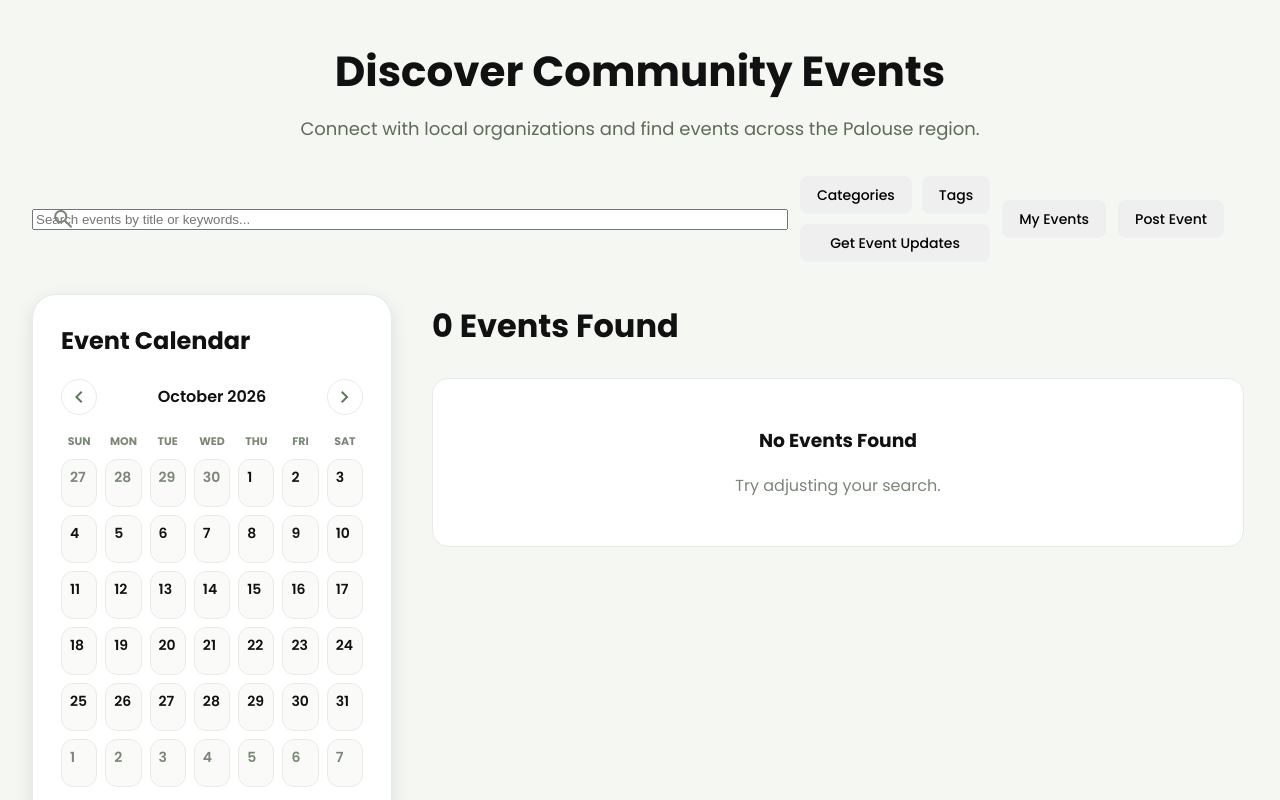
Test: Events › opens the post event popup from the events page
The image size is (1280, 800).
Click the button "Post Event" at point(1171, 219), box [1118,200,1224,238]
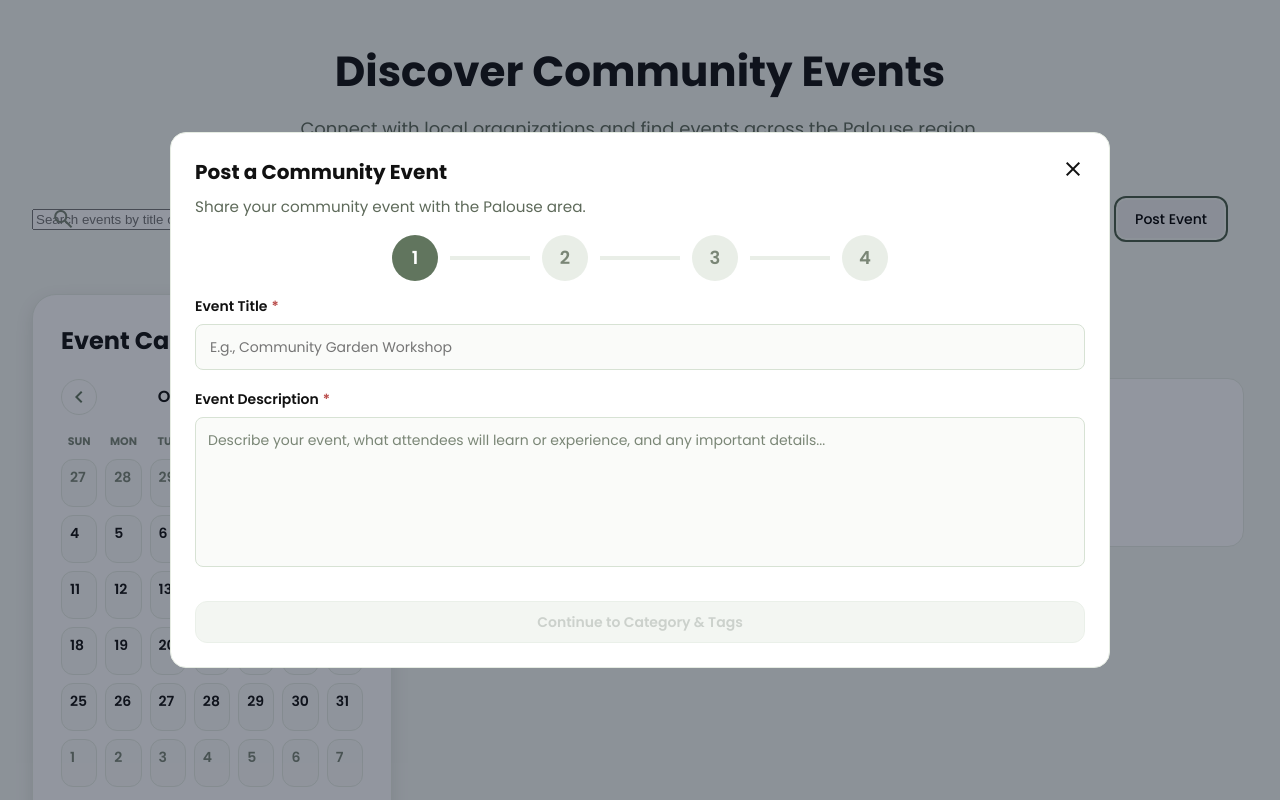
Result: the heading "Post a Community Event" is shown at [195,158,447,186]
